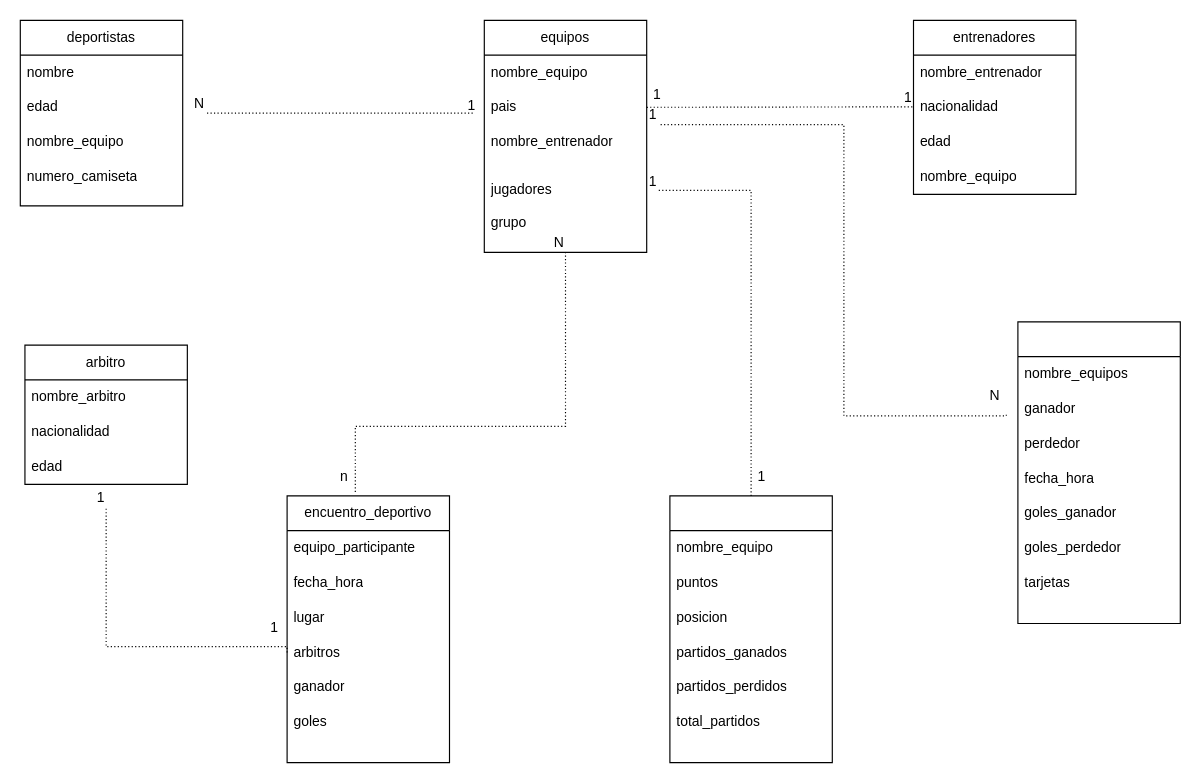
Image size: 1201x783. Some labels were removed from this diagram. Each missing label, with the box of its shape:
posiciones: (669, 495, 832, 763)
resultados: (1017, 321, 1180, 624)
